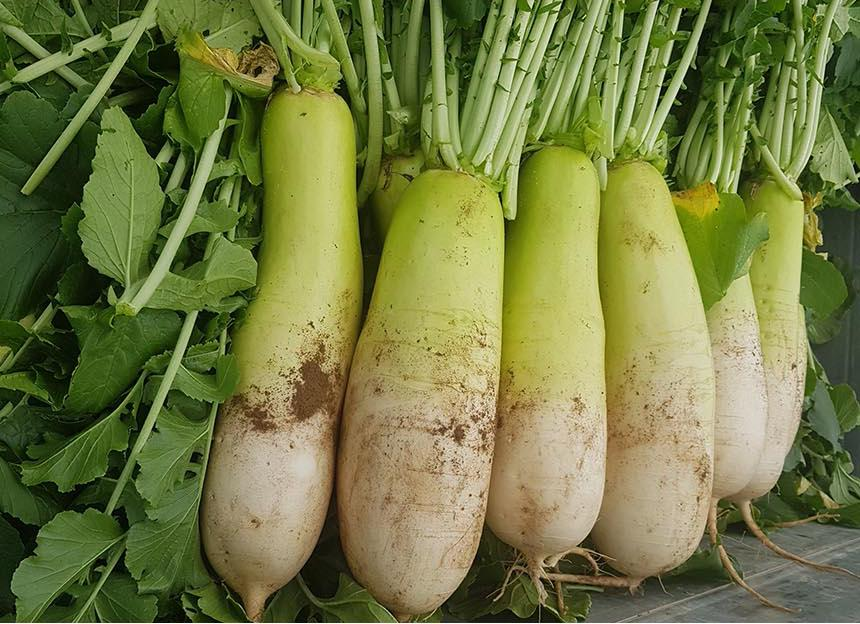radish: (529, 195, 664, 587), (329, 231, 474, 553), (696, 192, 820, 541)
